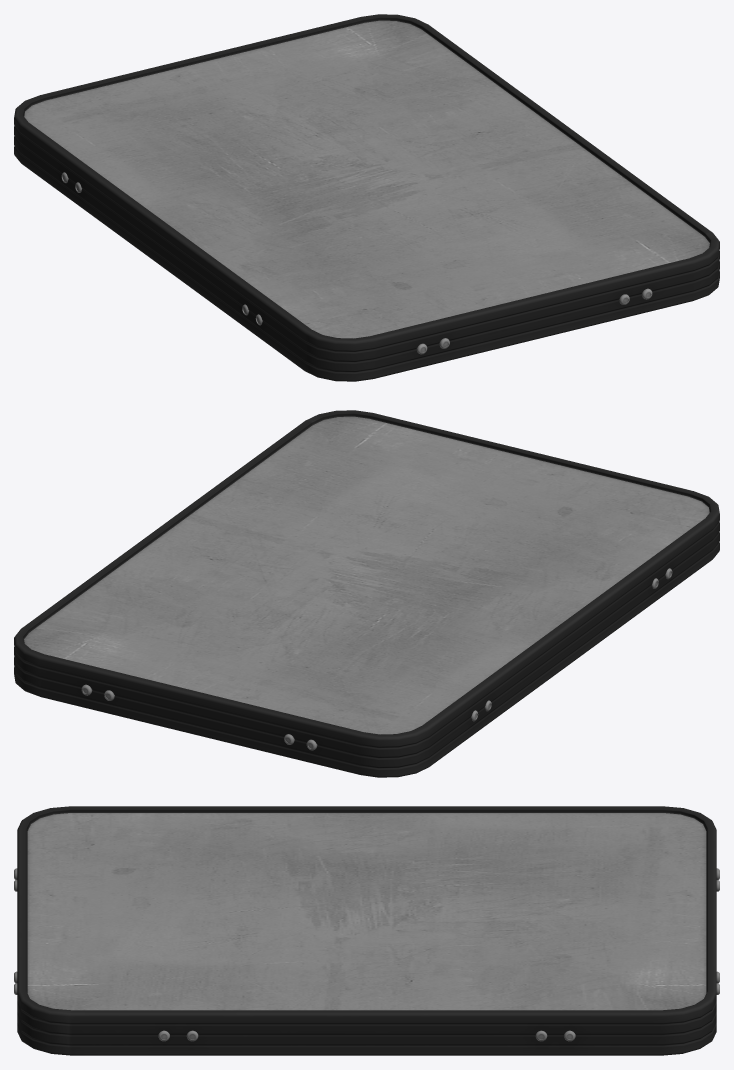
File: Top.fbx
The picture shows the model from 3 angles, top to bottom: view 1: azimuth 30°, elevation 25°; view 2: azimuth 150°, elevation 25°; view 3: azimuth 270°, elevation 25°; orthographic projection. The views are drawn at different scales.
Parts seen in each view (by area): view 1: Cube.003; view 2: Cube.003; view 3: Cube.003.
Boxes of the visible parts, box(x1,y1,x2,y2) form: Cube.003: box(14, 14, 719, 381); Cube.003: box(14, 410, 719, 777); Cube.003: box(14, 806, 719, 1055).
Size of the model in its own units: 72.85 by 6.85 by 103.
Materials: 1 (1 with a texture image).
